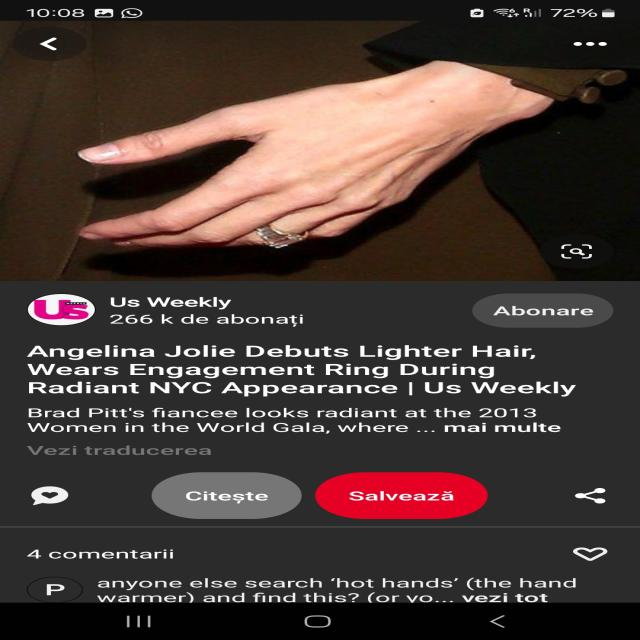hands: (68, 29, 571, 275)
